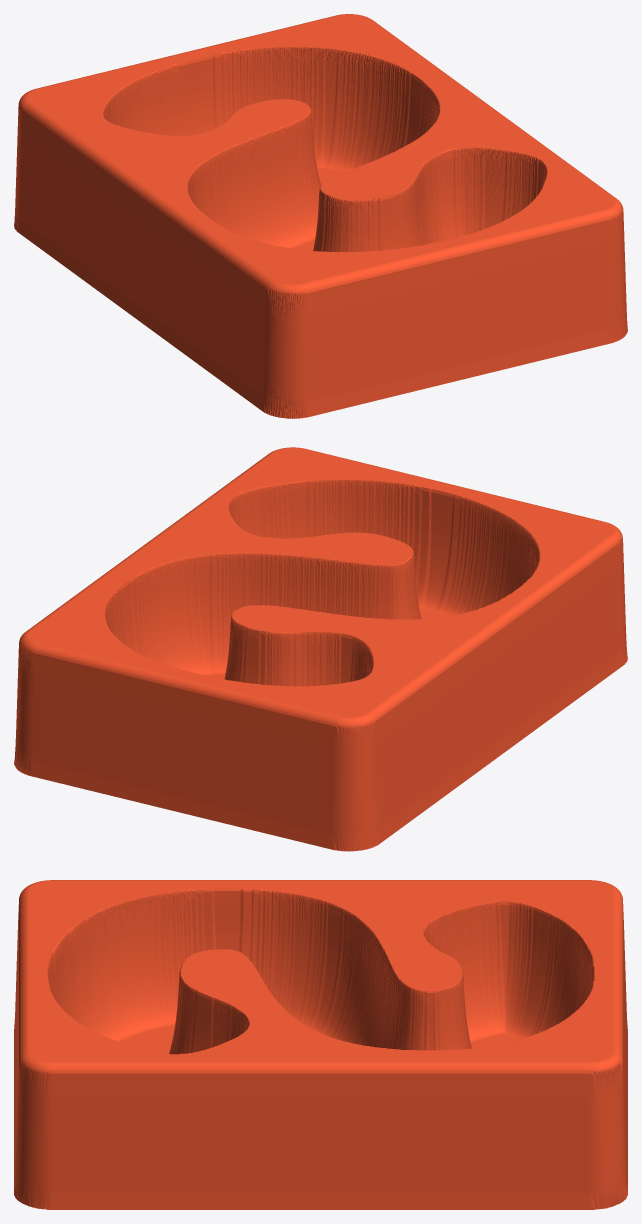
File: mold.glb
3 views of the same model, one above another, from view 1: azimuth 30°, elevation 25°; view 2: azimuth 150°, elevation 25°; view 3: azimuth 270°, elevation 25° (orthographic). The views are drawn at different scales.
Parts seen in each view (by area): view 1: geometry_0; view 2: geometry_0; view 3: geometry_0.
Boxes of the visible parts, left/top/right/bottom form: geometry_0: left=14, top=14, right=627, bottom=418; geometry_0: left=14, top=447, right=627, bottom=851; geometry_0: left=14, top=880, right=627, bottom=1209.
Size of the model in its own units: 0.1072 by 0.0365 by 0.1435.
